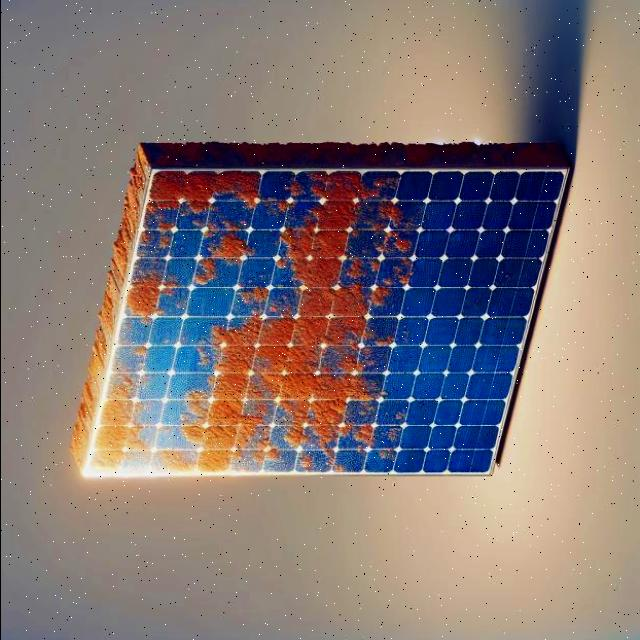Anomaly Solar Panel: (88, 172, 563, 476)
Surface Contaminant: (155, 173, 416, 476), (134, 173, 260, 285), (87, 342, 167, 479), (121, 261, 190, 331)
